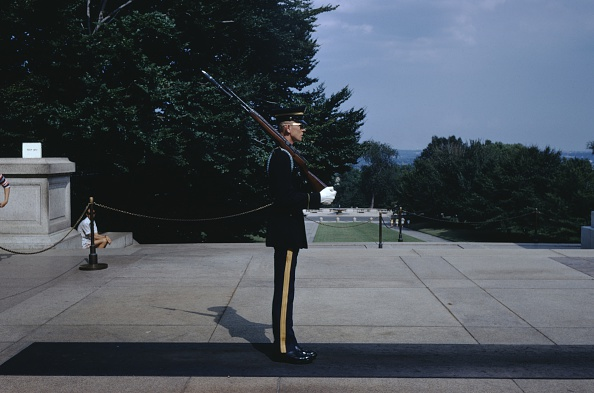em pe: (263, 114, 317, 321)
